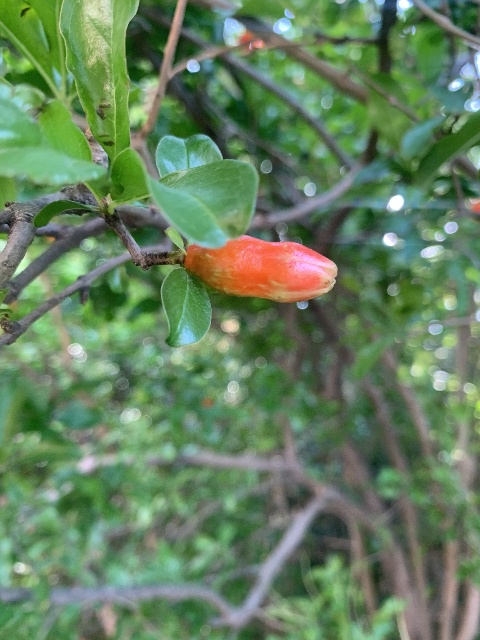bud: (183, 233, 338, 302)
